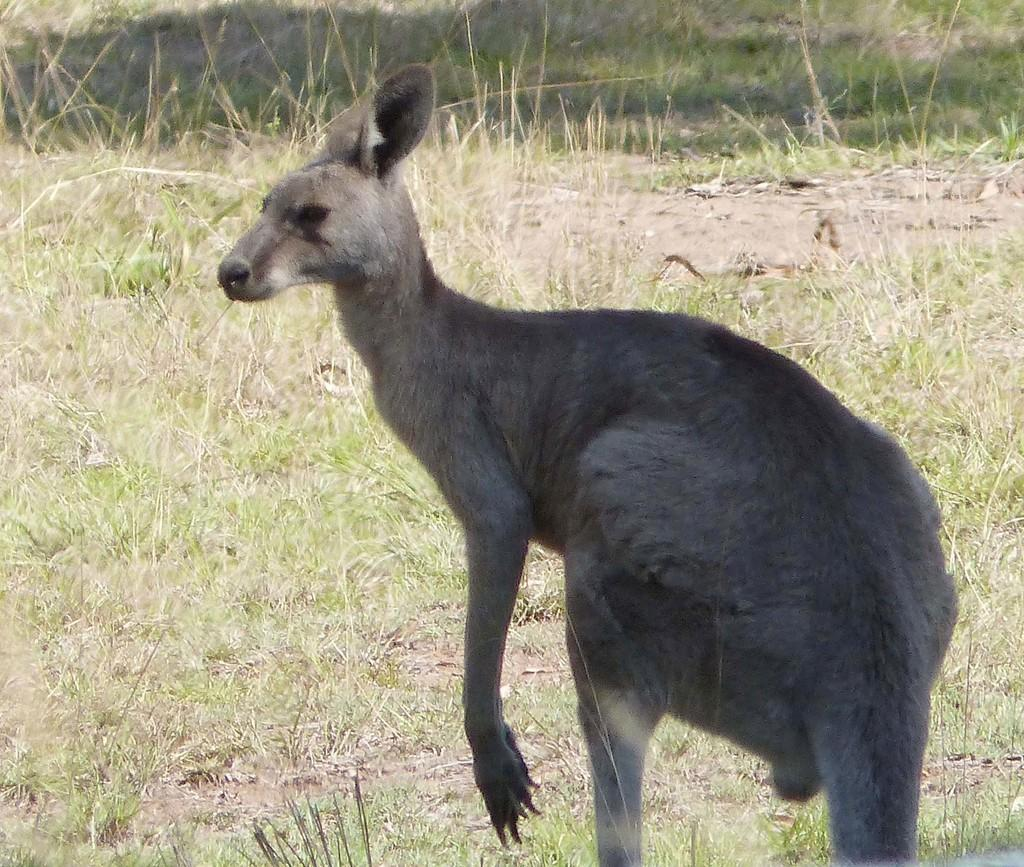kangaroo: (213, 61, 954, 866)
